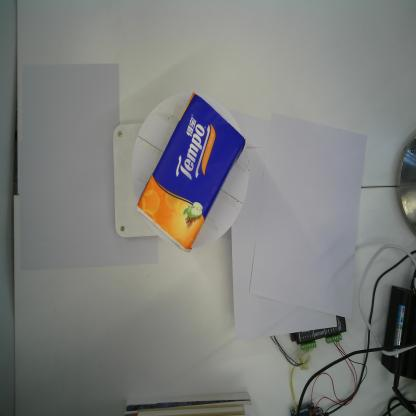Tissue: (136, 90, 248, 255)
